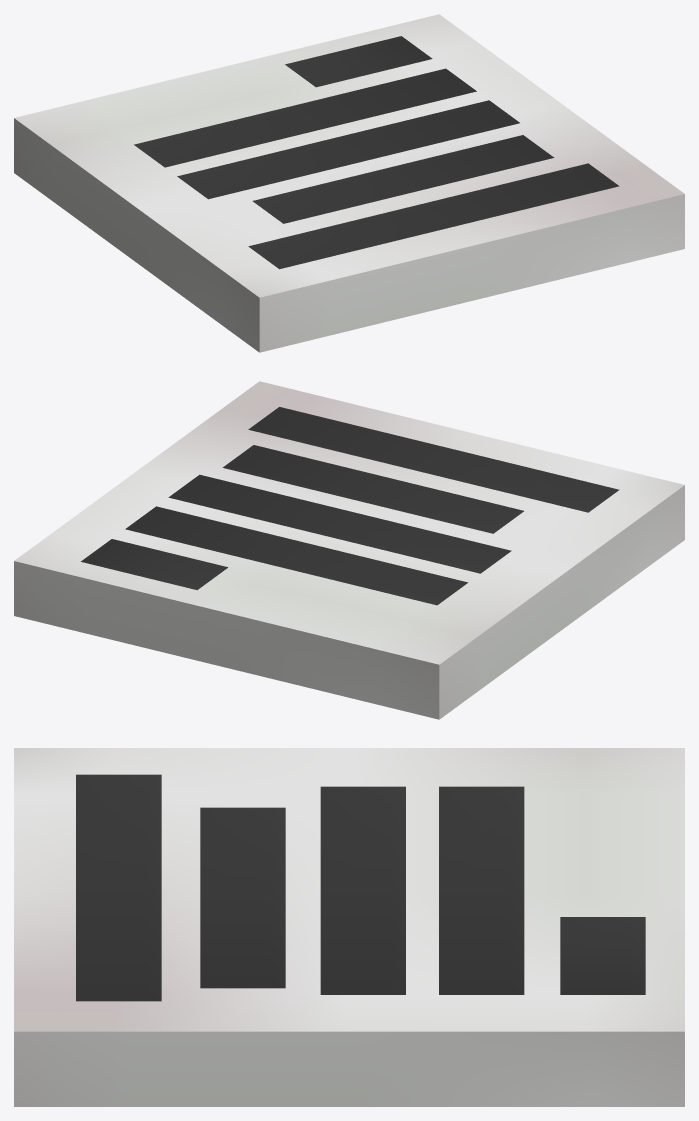
Rendered from List_Block.fbx.
3 renders of one model, top to bottom at view 1: azimuth 30°, elevation 25°; view 2: azimuth 150°, elevation 25°; view 3: azimuth 270°, elevation 25°, orthographic. The views are drawn at different scales.
Visible parts, largest first — view 1: List_Block; view 2: List_Block; view 3: List_Block.
Boxes of the visible parts, x1,y1,x2,y2 form: List_Block: [14, 14, 684, 352]; List_Block: [14, 381, 684, 719]; List_Block: [14, 748, 684, 1106].
Bounding box in the file's own units: 25 × 3.17 × 25.
Materials: 1 (1 with a texture image).
